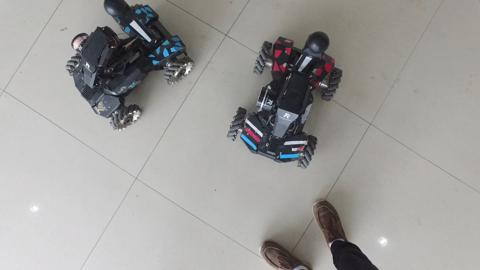chariot: (217, 19, 351, 179), (57, 1, 199, 142)
